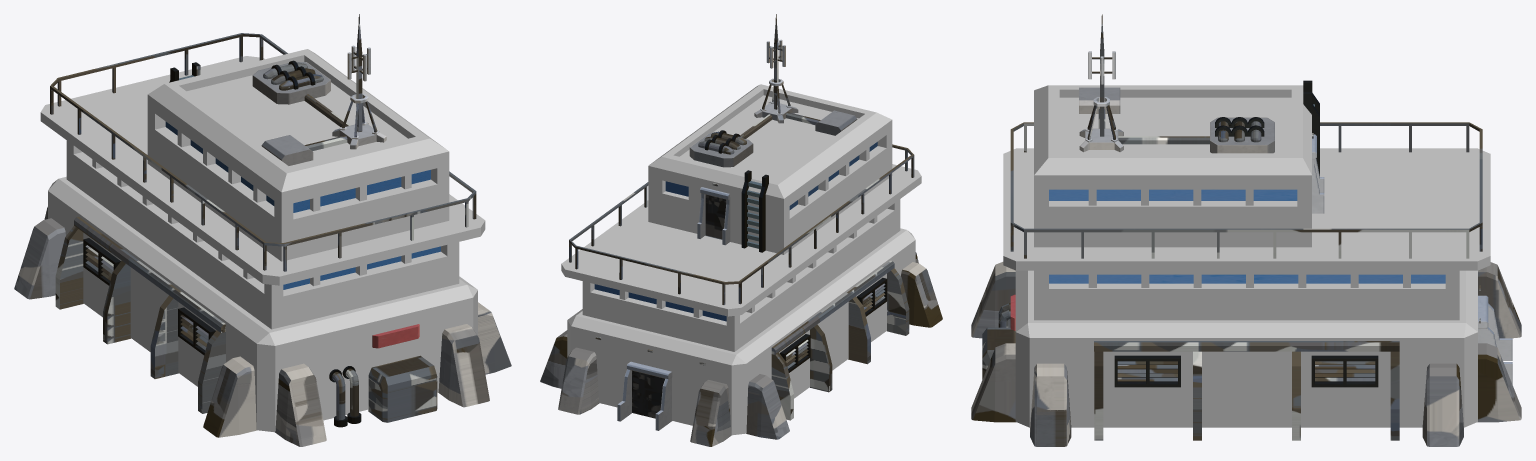
The model's file is House2.fbx.
3 renders of one model, left to right at view 1: azimuth 30°, elevation 25°; view 2: azimuth 150°, elevation 25°; view 3: azimuth 270°, elevation 25°, orthographic. The views are drawn at different scales.
Parts seen in each view (by area): view 1: Office_building_1__Cube.000; view 2: Office_building_1__Cube.000; view 3: Office_building_1__Cube.000.
Boxes of the visible parts, x1,y1,x2,y2 form: Office_building_1__Cube.000: (14, 14, 511, 446); Office_building_1__Cube.000: (540, 14, 942, 446); Office_building_1__Cube.000: (971, 14, 1521, 446).
Bounding box in the file's own units: 973 × 1132 × 1511.
